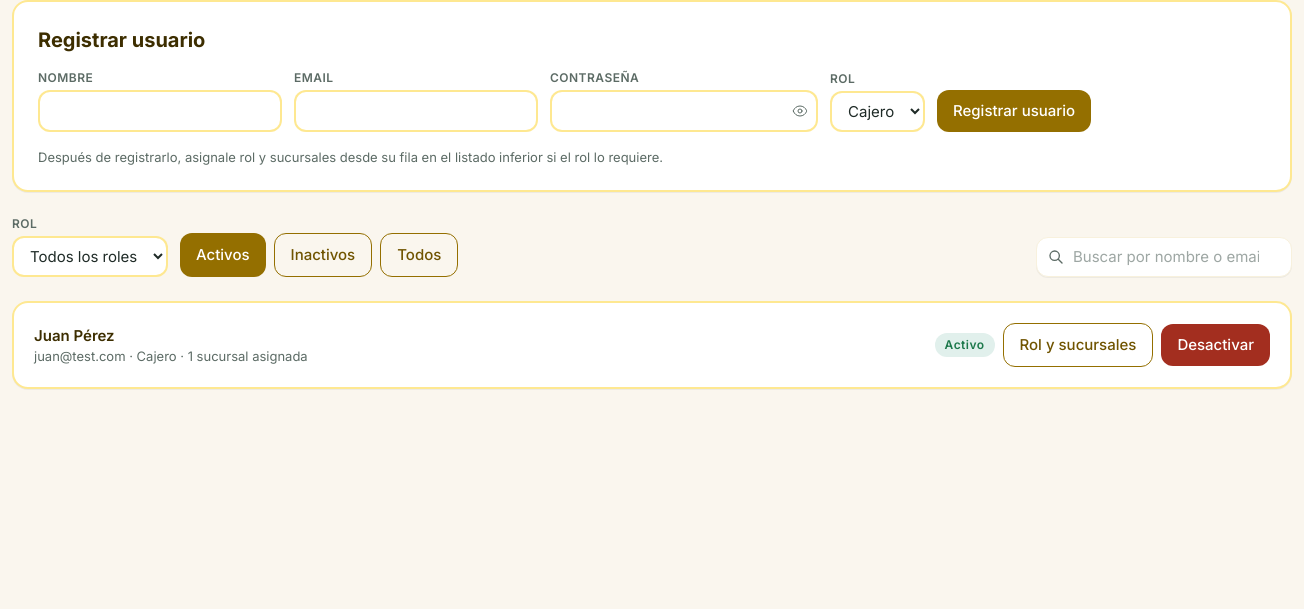
Usuarios › guarda el rol y sucursales reemplazando el conjunto completo (PATCH .../rol-sucursales), nunca agregando por separado
Step 1. Click the button "Rol y sucursales" → (1078, 345), box left=1002, top=323, right=1153, bottom=367
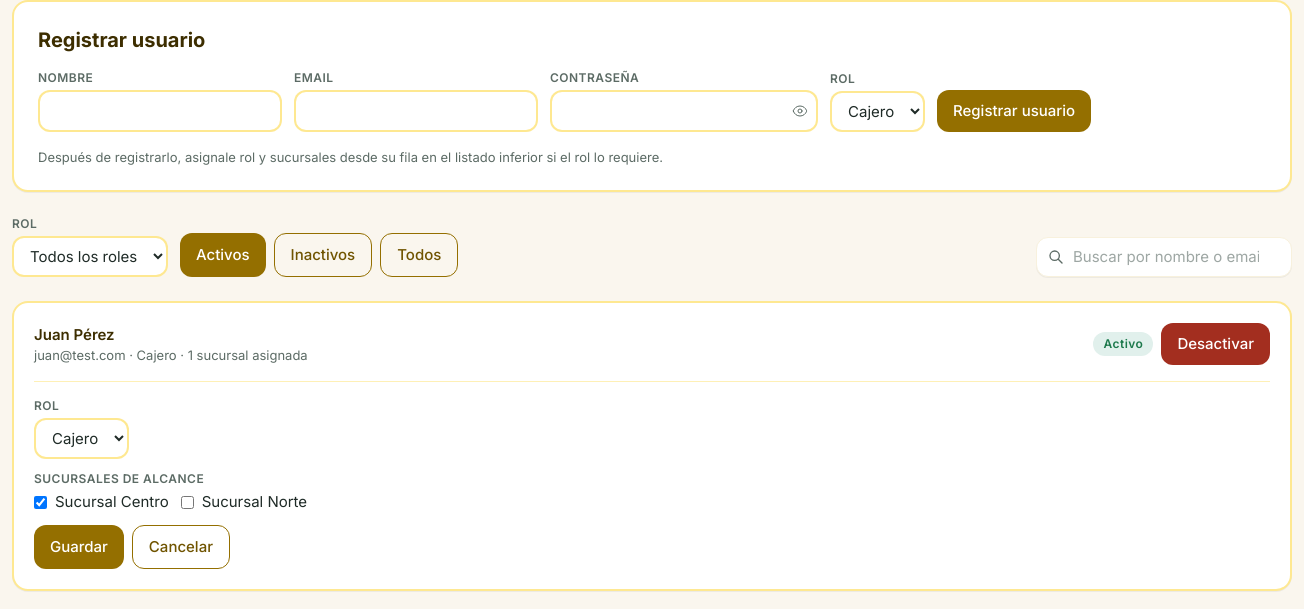
Step 2. Click the checkbox labelled "Sucursal Norte" → (187, 502), box left=181, top=496, right=194, bottom=508
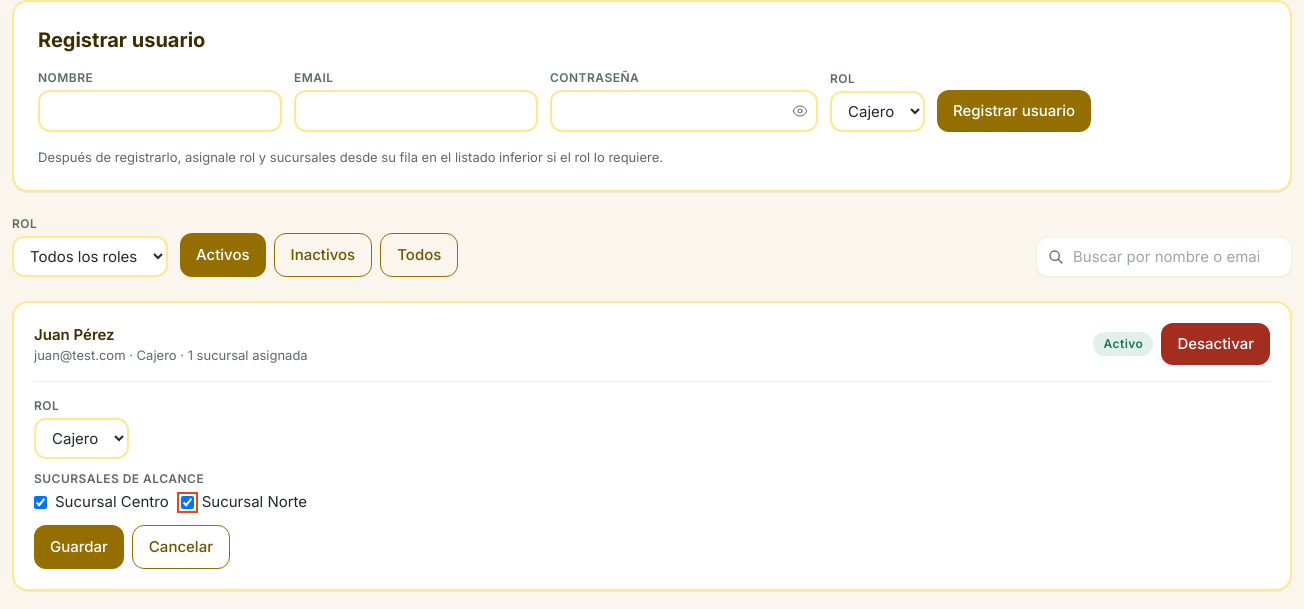
Step 3. Click the button "Guardar" → (79, 547), box left=34, top=525, right=124, bottom=569
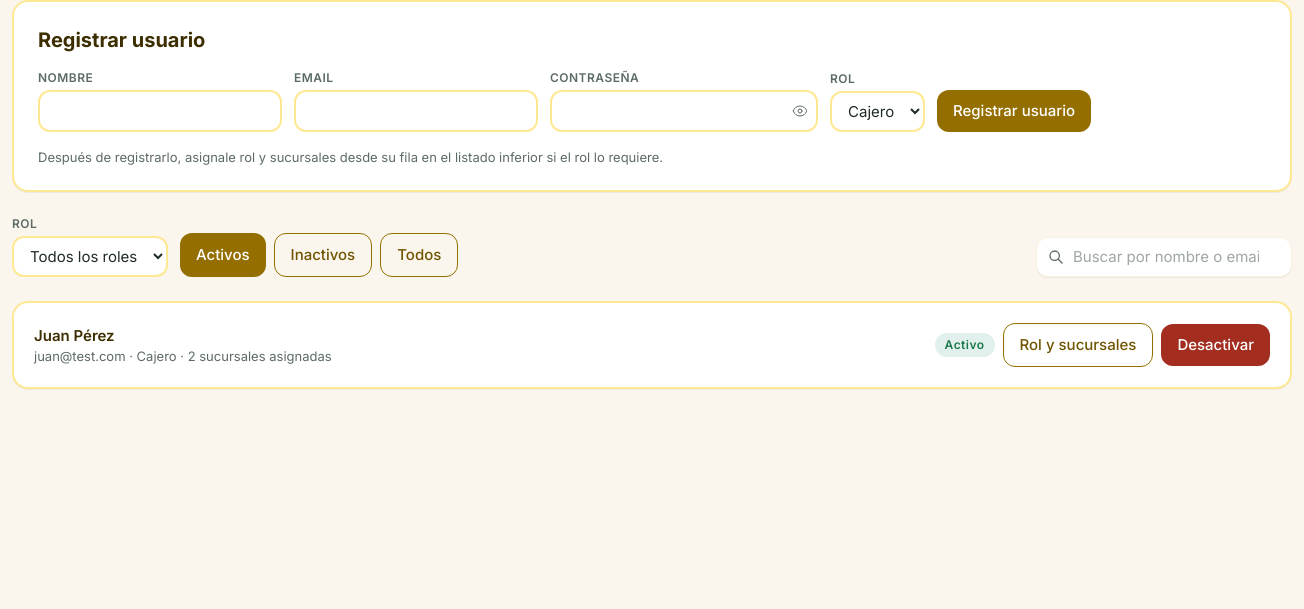
Check: the text "juan@test.com · Cajero · 2 sucursales asignadas" is shown, box left=34, top=347, right=332, bottom=365
